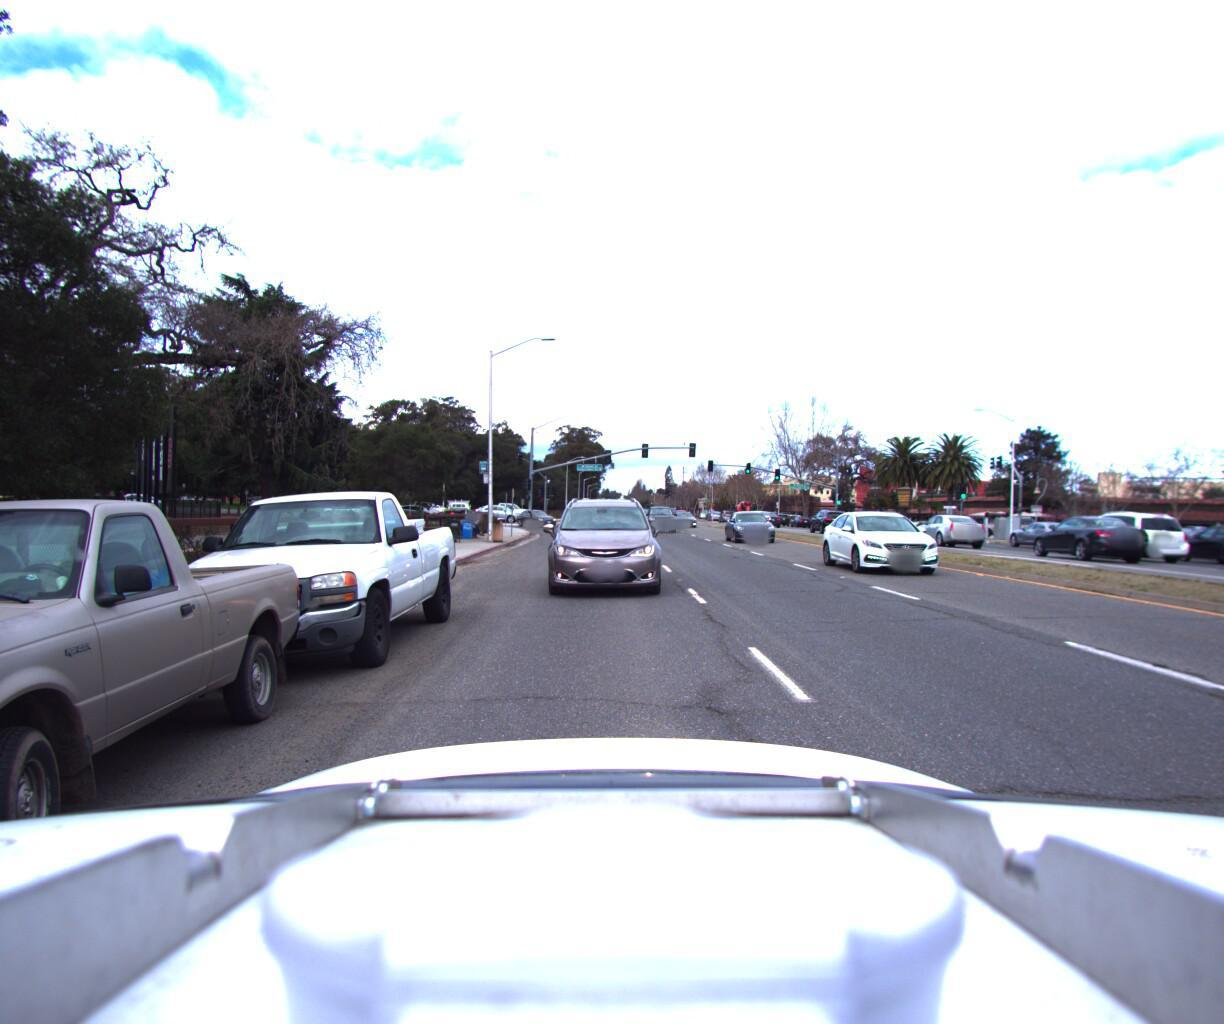car: (120, 464, 477, 695), (545, 485, 659, 601), (823, 507, 971, 581), (1067, 509, 1189, 563), (1022, 515, 1149, 561), (1158, 517, 1224, 567), (908, 510, 986, 547), (725, 511, 781, 546), (805, 504, 847, 530), (646, 503, 679, 532), (475, 499, 525, 518), (674, 505, 700, 528), (532, 506, 557, 526)
